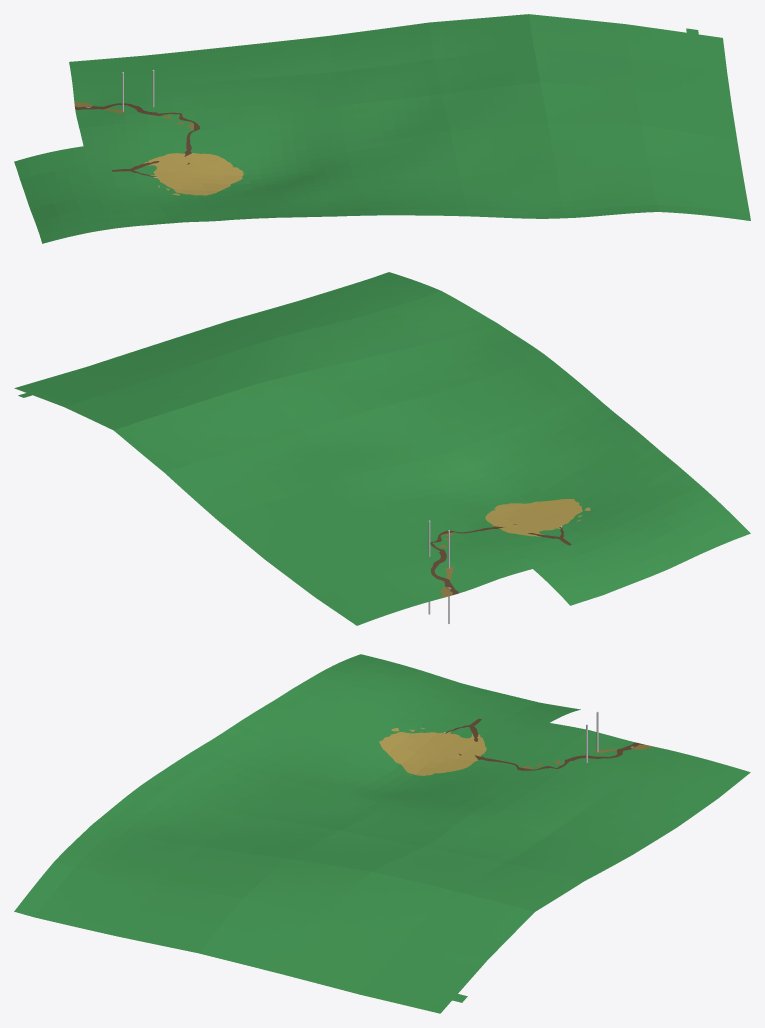
Rendered from Winding path and open space.fbx.
The picture shows the model from 3 angles, top to bottom: view 1: azimuth 30°, elevation 25°; view 2: azimuth 150°, elevation 25°; view 3: azimuth 270°, elevation 25°; orthographic projection. The views are drawn at different scales.
Visible parts, largest first — view 1: base; view 2: base; view 3: base.
Part boxes in pixels (x1=…): base: x1=14, y1=14, x2=750, y2=243; base: x1=14, y1=272, x2=750, y2=625; base: x1=14, y1=654, x2=750, y2=1013.
Bounding box in the file's own units: 3739 × 476 × 3218.
